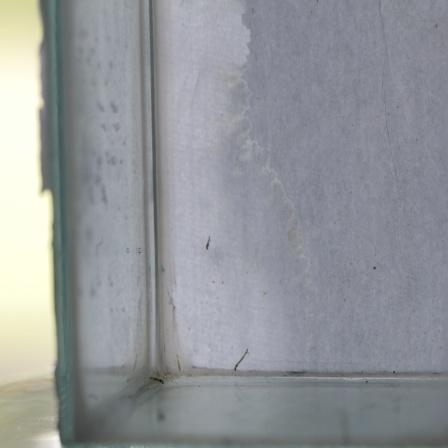Jentik-Nyamuk: (229, 343, 253, 373), (148, 366, 167, 391)
